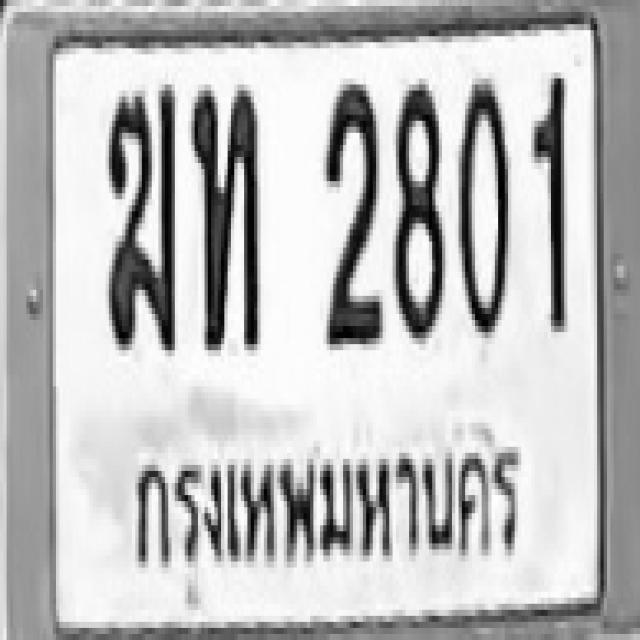0: (455, 76, 508, 335)
1: (529, 73, 566, 332)
15KhorRaKhang: (104, 85, 173, 344)
2: (322, 82, 381, 341)
32ThorThaHan: (190, 82, 259, 347)
8: (393, 79, 442, 338)
Bangkok: (122, 424, 526, 586)
